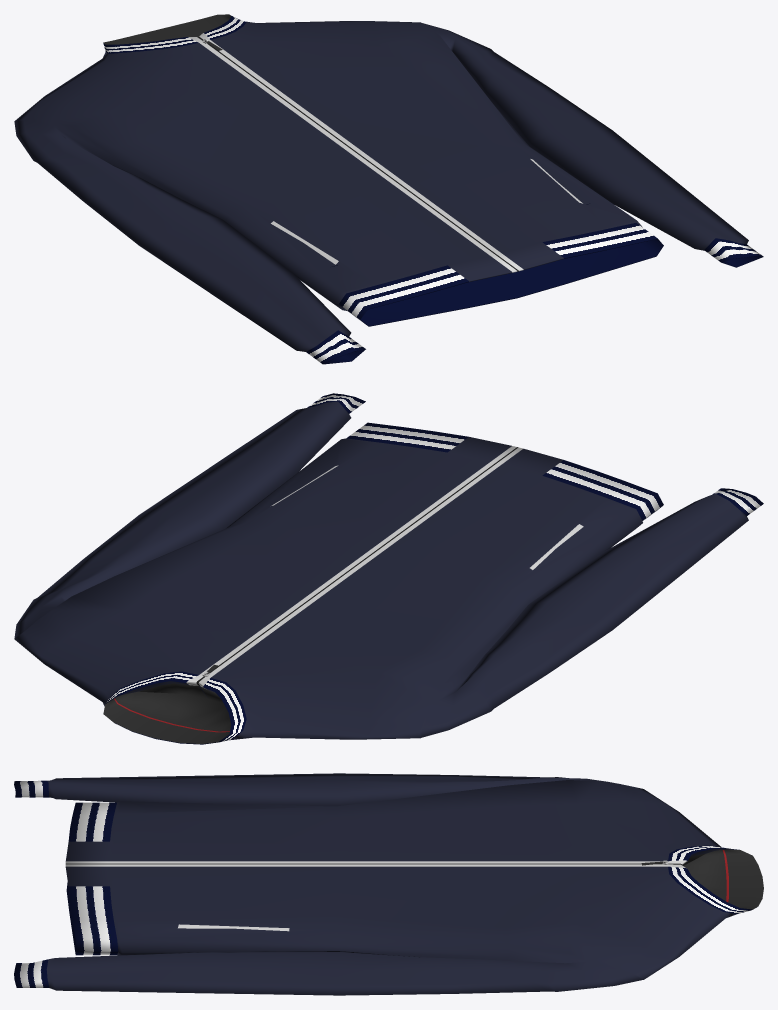
Rendered from sweethome3d-scopia-jacket.glb.
The picture shows the model from 3 angles, top to bottom: view 1: azimuth 30°, elevation 25°; view 2: azimuth 150°, elevation 25°; view 3: azimuth 270°, elevation 25°; orthographic projection. The views are drawn at different scales.
Parts seen in each view (by area): view 1: blouson_Circle, texturedparts_Circle.003; view 2: blouson_Circle, texturedparts_Circle.003; view 3: blouson_Circle, texturedparts_Circle.003.
Boxes of the visible parts, box(x1,y1,x2,y2) form: blouson_Circle: box(14, 14, 748, 351); texturedparts_Circle.003: box(103, 15, 763, 364); blouson_Circle: box(14, 401, 748, 743); texturedparts_Circle.003: box(106, 393, 763, 744); blouson_Circle: box(46, 773, 763, 995); texturedparts_Circle.003: box(14, 780, 756, 987).
Size of the model in its own units: 51.28 by 3.22 by 73.15.
7 materials, 1 textured.
